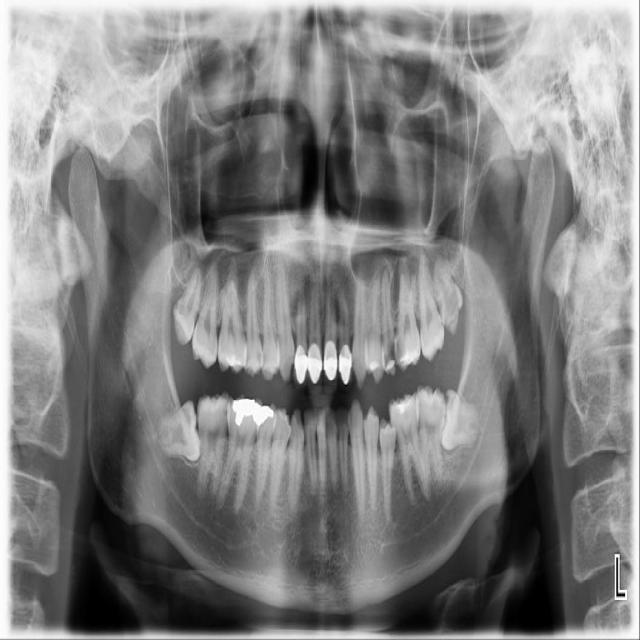Caries: (443, 286, 458, 324), (383, 339, 397, 367), (396, 337, 405, 367), (175, 300, 183, 312), (262, 354, 267, 364), (256, 352, 260, 363)
Crown: (323, 340, 338, 393), (308, 343, 323, 394), (293, 344, 308, 388), (338, 343, 352, 390)
Filling: (230, 400, 258, 426), (391, 397, 415, 415), (256, 403, 270, 428)
impacted tooth: (158, 400, 201, 461), (442, 390, 481, 448)
